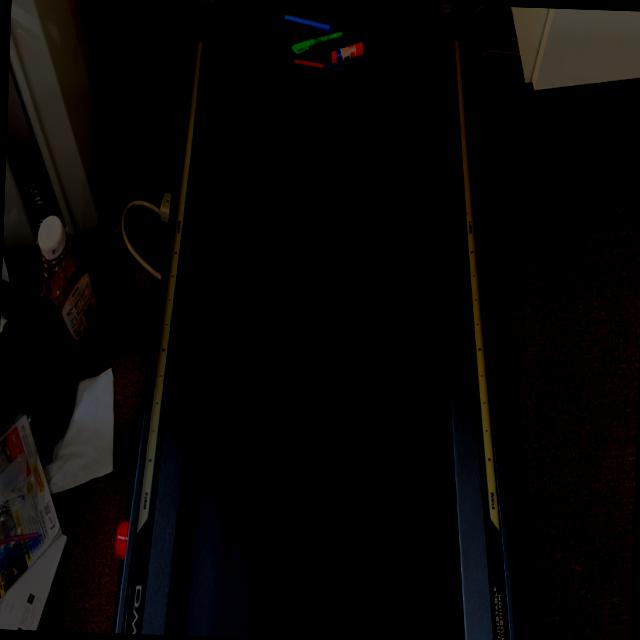Trash: (290, 26, 342, 54), (280, 10, 335, 34), (293, 55, 347, 76), (330, 37, 365, 66)
